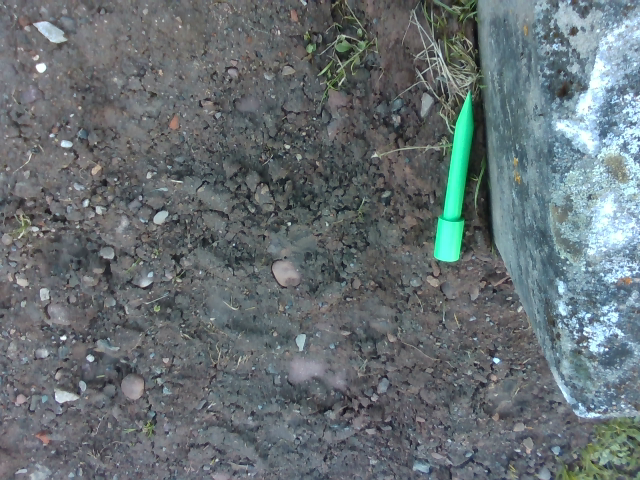Probe: (426, 87, 478, 272)
